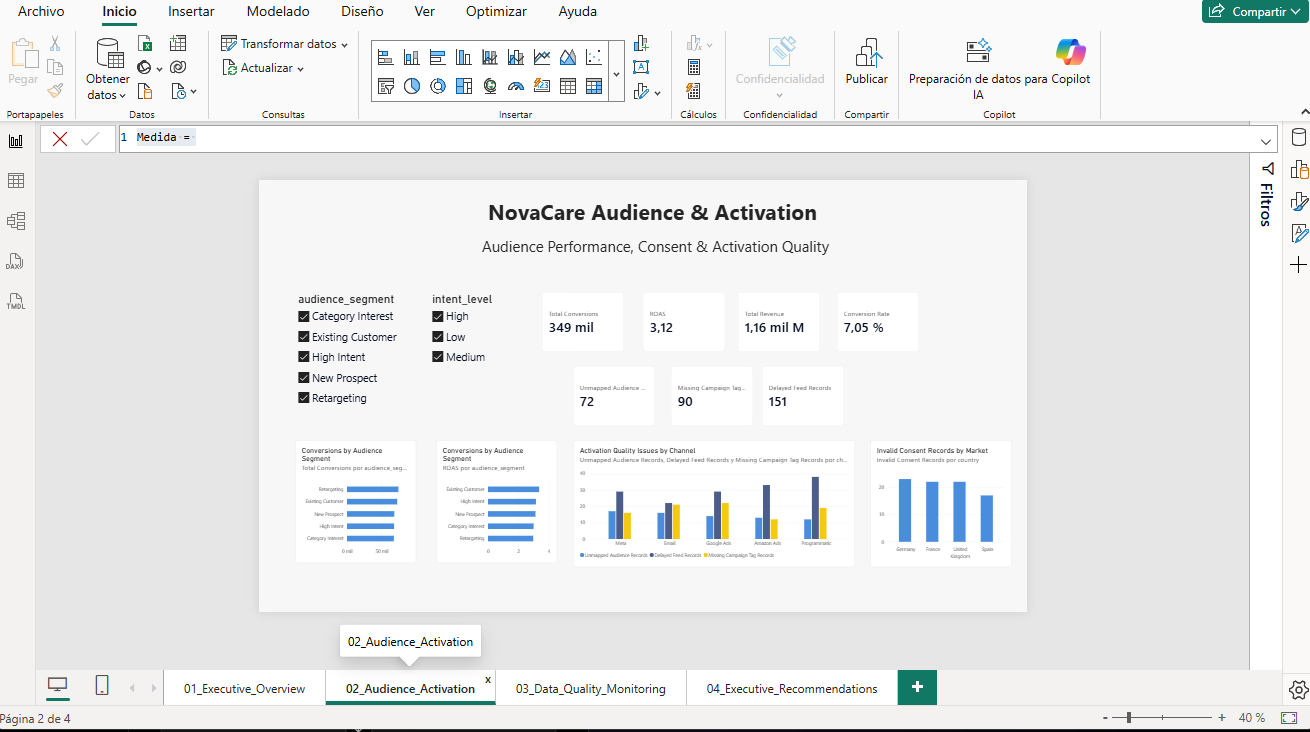

What the dashboard file says about the page in this screenshot:
{"tool":"powerbi","page":{"name":"02_Audience_Activation","canvas":[1920,1080],"ordinal":1},"visuals":[{"type":"textbox","box":[10,0,280,280],"z":0},{"type":"textbox","box":[572.5,42.5,1077.5,97.5],"z":1000},{"type":"textbox","box":[557.5,140,970,95],"z":2000},{"type":"slicer","fields":{"Values":["novacare_audience_taxonomy.audience_segment"]},"box":[90,280,302.5,307.5],"z":3000},{"type":"slicer","fields":{"Values":["novacare_audience_taxonomy.intent_level"]},"box":[425,280,303,308],"z":4000},{"type":"cardVisual","fields":{"Data":["Measuredata.Total Conversions"]},"box":[707.5,280,205,150],"z":5000},{"type":"cardVisual","fields":{"Data":["novacare_audience_taxonomy.ROAS"]},"box":[960,280,205,150],"z":6000},{"type":"cardVisual","fields":{"Data":["novacare_audience_taxonomy.Total Revenue"]},"box":[1197.5,280,205,150],"z":7000},{"type":"cardVisual","fields":{"Data":["Measuredata.Conversion Rate"]},"box":[1445,280,205,150],"z":8000},{"type":"clusteredBarChart","title":"Conversions by Audience Segment","fields":{"Category":["novacare_audience_taxonomy.audience_segment"],"Y":["Measuredata.Total Conversions"]},"box":[90,650,303,308],"z":9000},{"type":"clusteredBarChart","title":"Conversions by Audience Segment","fields":{"Category":["novacare_audience_taxonomy.audience_segment"],"Y":["Measuredata.ROAS"]},"box":[442.5,650,303,308],"z":10000},{"type":"cardVisual","fields":{"Data":["Measuredata.Unmapped Audience Records"]},"box":[785,465,205,150],"z":11000},{"type":"cardVisual","fields":{"Data":["Measuredata.Missing Campaign Tag Records"]},"box":[1030,465,205,150],"z":12000},{"type":"cardVisual","fields":{"Data":["Measuredata.Delayed Feed Records"]},"box":[1257.5,465,205,150],"z":13000},{"type":"clusteredColumnChart","title":"Activation Quality Issues by Channel","fields":{"Category":["novacare_media_performance.channel"],"Y":["Measuredata.Unmapped Audience Records","Measuredata.Delayed Feed Records","Measuredata.Missing Campaign Tag Records"]},"box":[785,650,705,317.5],"z":14000},{"type":"clusteredColumnChart","title":"Invalid Consent Records by Market","fields":{"Category":["novacare_media_performance.country"],"Y":["Measuredata.Invalid Consent Records"]},"box":[1527.5,650,355,317.5],"z":15000}]}

Visuals, with their boxes on the page's 1920x1080 design canvas (x1, y1, x2, y2). These are canvas units, not pixel positions in the 1310x732 screenshot, which may show the page scaled, cropped or inside an application window:
textbox: region(10, 0, 290, 280)
textbox: region(572, 42, 1650, 140)
textbox: region(558, 140, 1528, 235)
slicer - novacare_audience_taxonomy.audience_segment: region(90, 280, 392, 588)
slicer - novacare_audience_taxonomy.intent_level: region(425, 280, 728, 588)
cardVisual - Measuredata.Total Conversions: region(708, 280, 912, 430)
cardVisual - novacare_audience_taxonomy.ROAS: region(960, 280, 1165, 430)
cardVisual - novacare_audience_taxonomy.Total Revenue: region(1198, 280, 1402, 430)
cardVisual - Measuredata.Conversion Rate: region(1445, 280, 1650, 430)
"Conversions by Audience Segment" clusteredBarChart: region(90, 650, 393, 958)
"Conversions by Audience Segment" clusteredBarChart: region(442, 650, 746, 958)
cardVisual - Measuredata.Unmapped Audience Records: region(785, 465, 990, 615)
cardVisual - Measuredata.Missing Campaign Tag Records: region(1030, 465, 1235, 615)
cardVisual - Measuredata.Delayed Feed Records: region(1258, 465, 1462, 615)
"Activation Quality Issues by Channel" clusteredColumnChart: region(785, 650, 1490, 968)
"Invalid Consent Records by Market" clusteredColumnChart: region(1528, 650, 1882, 968)
